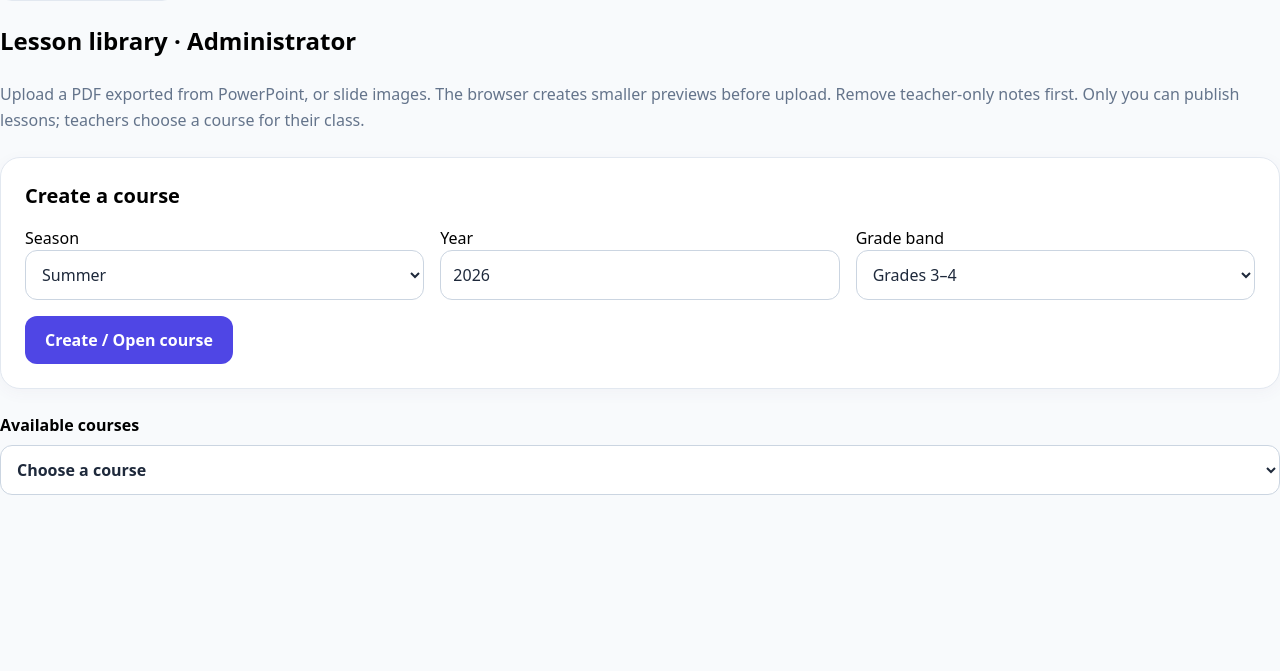
Test: lesson uploads explicitly connect an English word with its selected Chinese meaning
Select "2026 Summer · Grades 3–4" in the dropdown labelled "Available courses" at point(640, 470), box [0,445,1279,495]
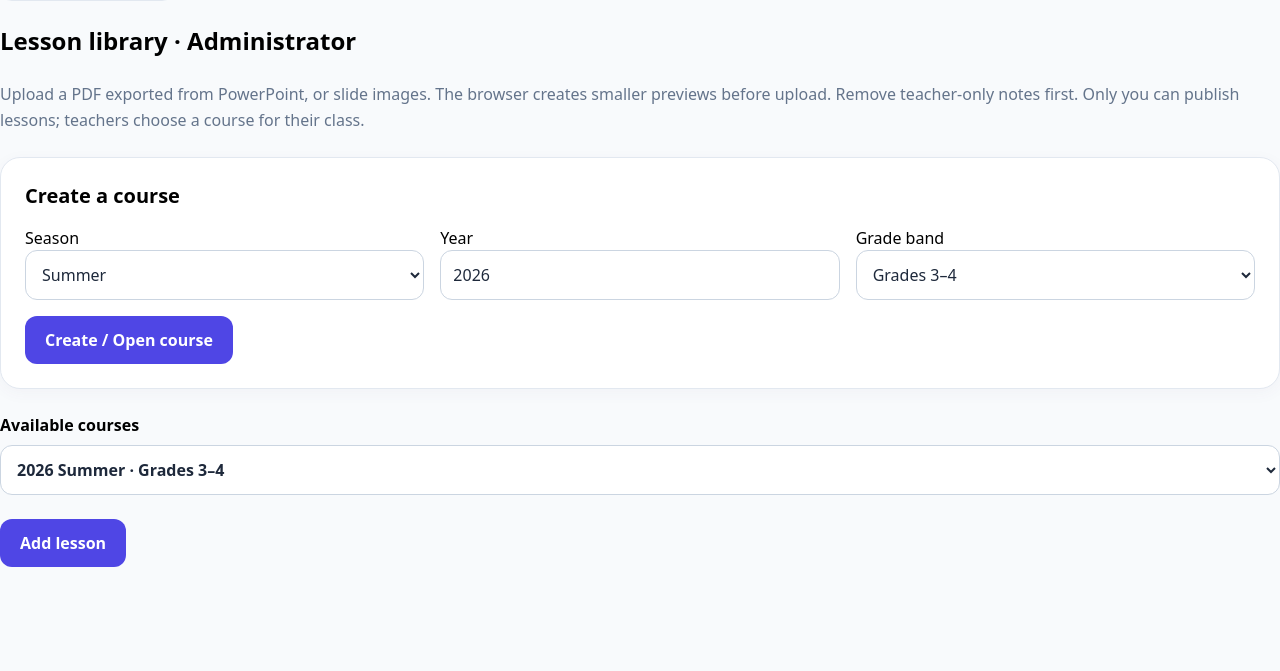
Check: the button "Add lesson" is enabled
Click the button "Add lesson" at point(63, 543), box [0,519,126,567]
(page scrolled)
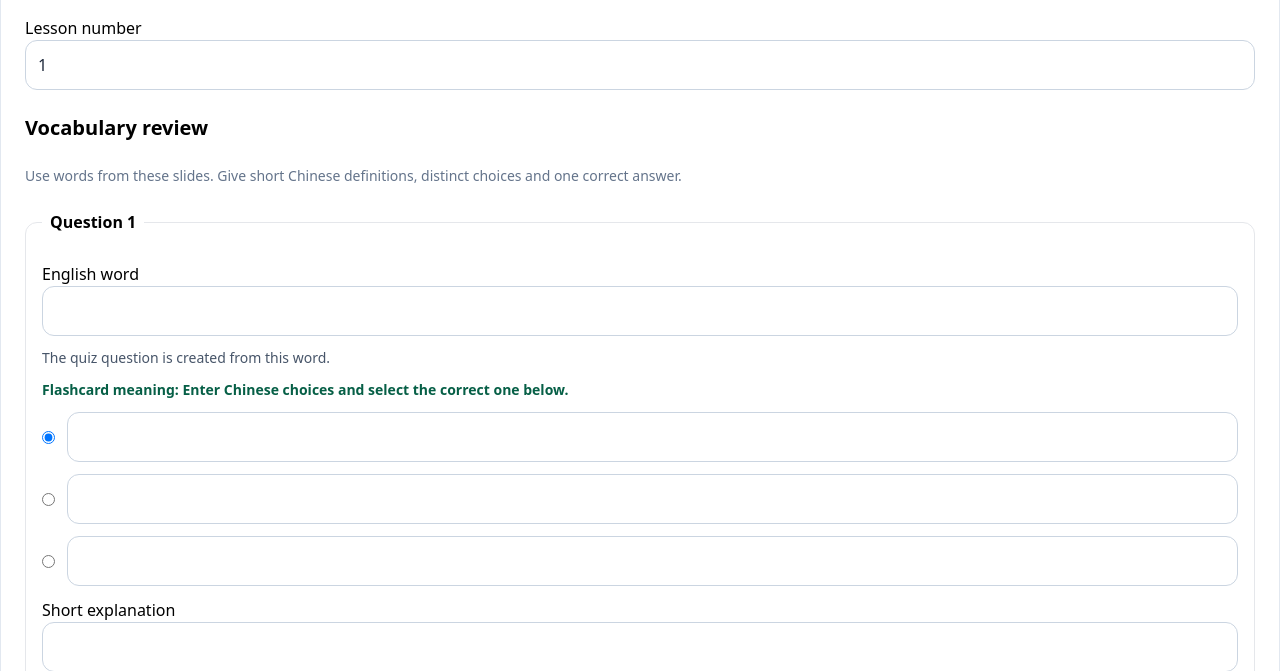
Check: the number of fields labelled "English word" is 4
Type "desk" into the field labelled "English word" at point(640, 311), box [42,286,1238,336]
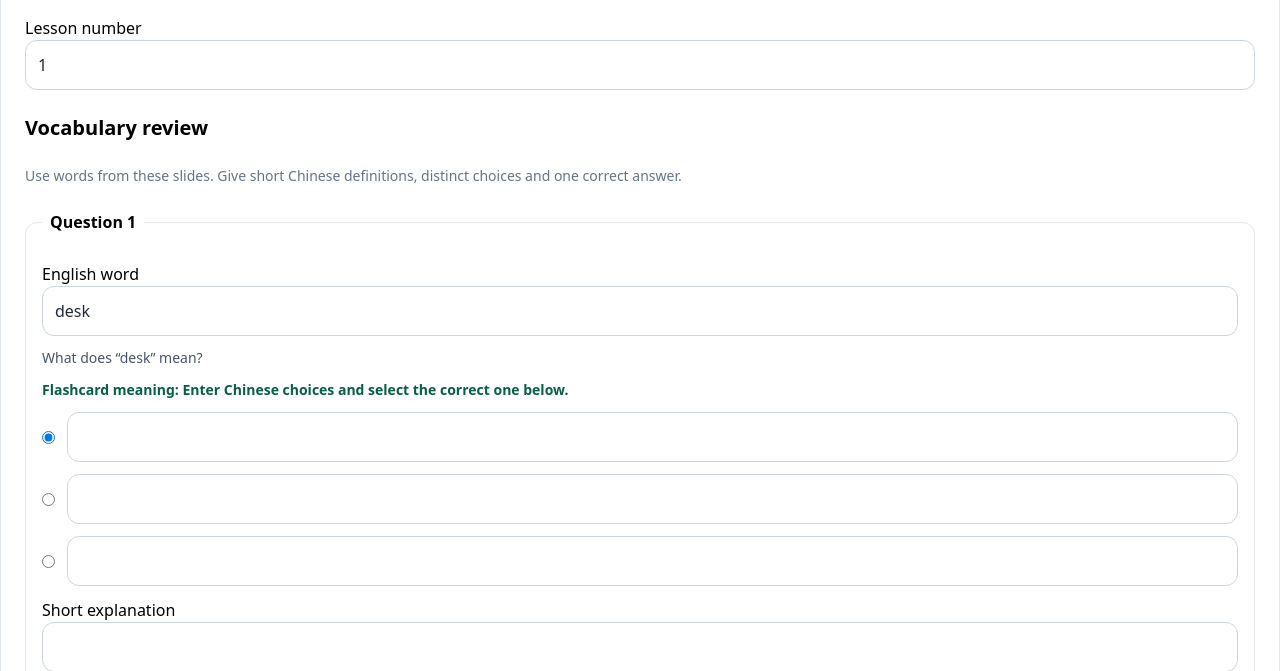
Type "椅子" into the field named "Choice 1" at point(652, 437), box [67,412,1238,462]
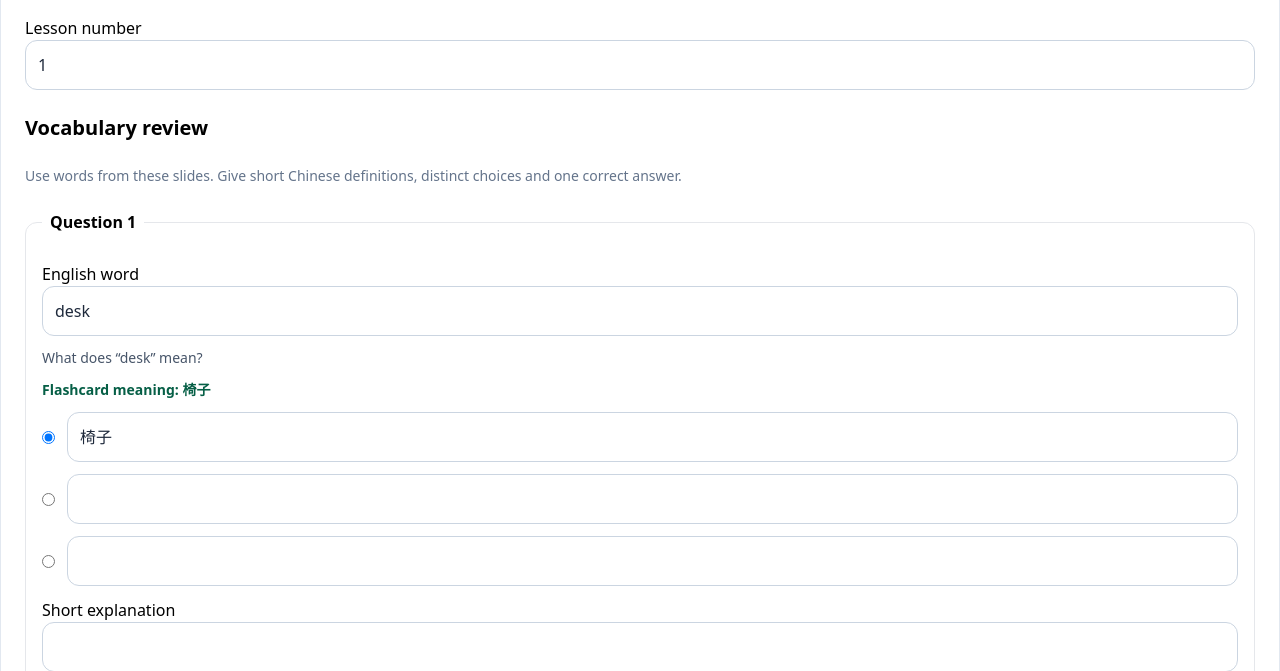
Type "课桌" into the field named "Choice 2" at point(652, 499), box [67,474,1238,524]
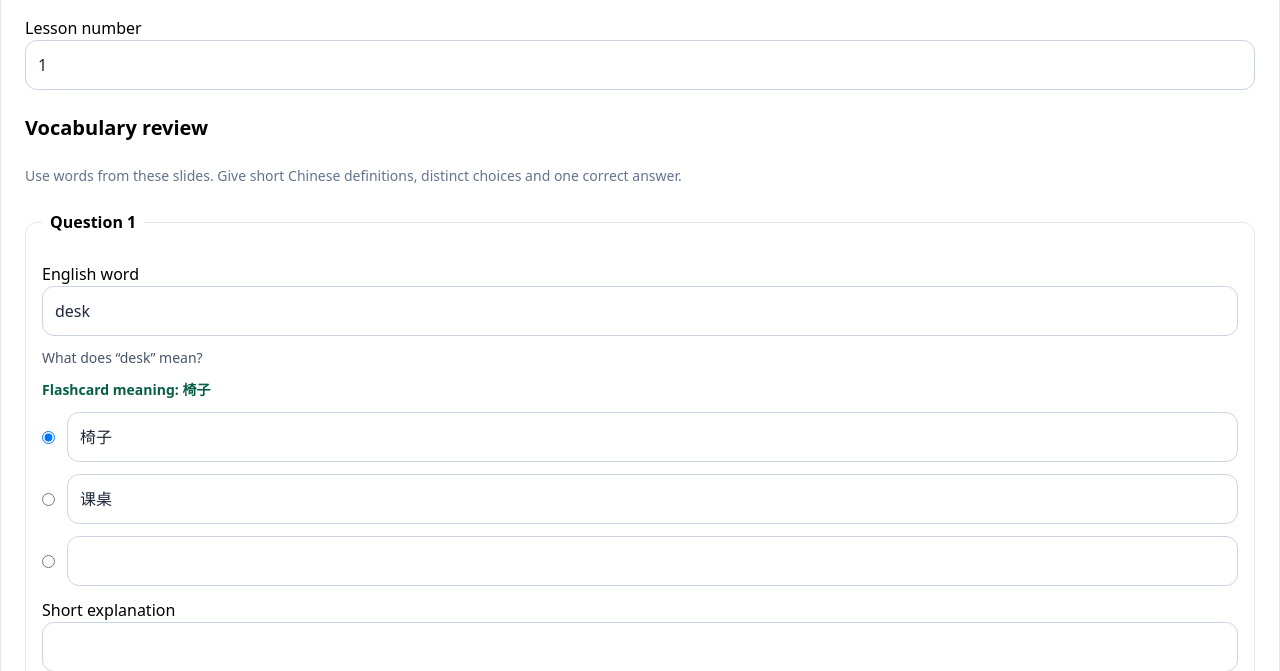
Click the radio button named "Choice 2 is correct" at point(48, 499), box [42,492,55,506]
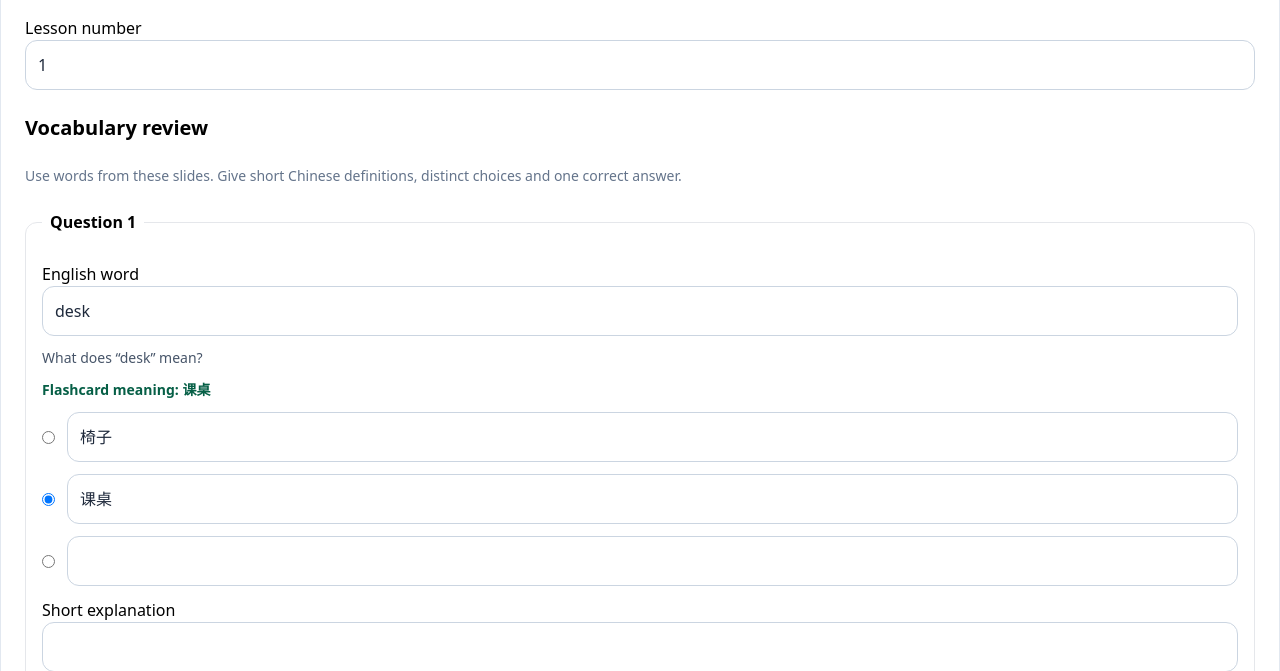
Check: the text "What does “desk” mean?" is shown, box [42,348,203,367]
Check: the text "Flashcard meaning: 课桌" is shown, box [42,380,210,399]
